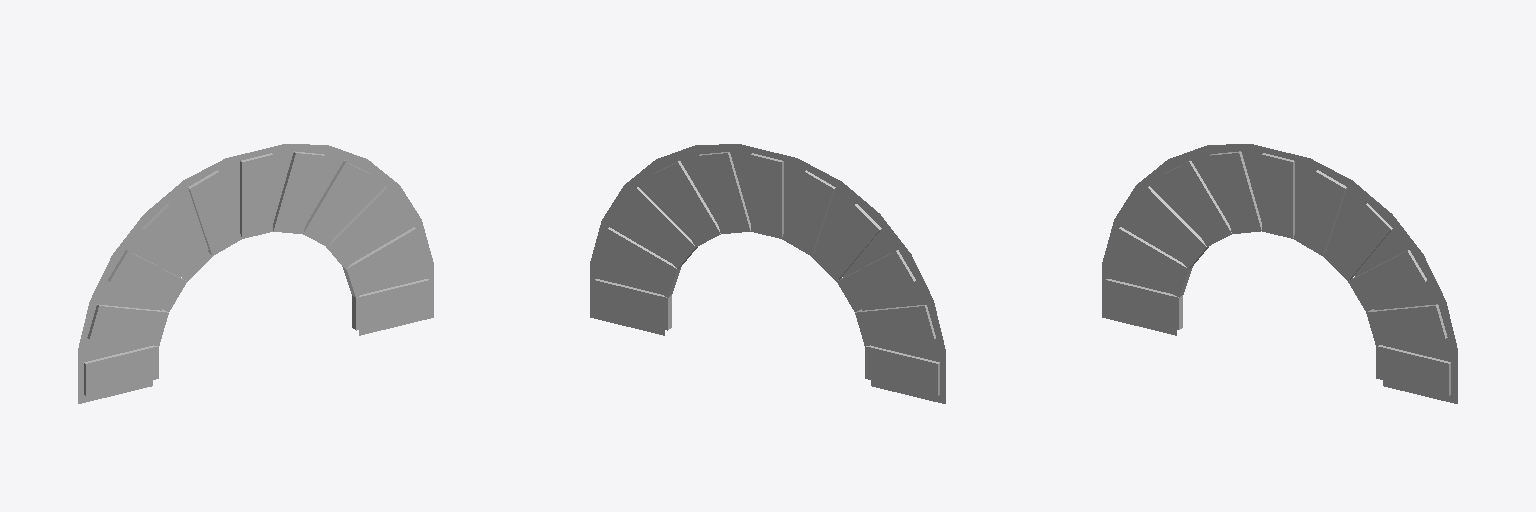
File: lime_mortar_orange_clay_brick_facade_round_arch_1_bottom.obj
The picture shows the model from 3 angles: view 1: azimuth 30°, elevation 25°; view 2: azimuth 150°, elevation 25°; view 3: azimuth 330°, elevation 25°; orthographic projection.
Visible parts, largest first — view 1: brick.032, brick.034, brick.036, brick.040, brick.038, brick.042, brick.033, brick.035, brick.041, brick.039, brick.037, cube.042 (+8 smaller); view 2: brick.032, brick.034, brick.040, brick.038, brick.042, brick.036, brick.033, brick.041, brick.035, brick.039, brick.037, cube.037 (+12 smaller); view 3: brick.035, brick.033, brick.037, brick.041, brick.039, brick.042, brick.040, brick.032, brick.034, brick.038, brick.036, cube.042 (+8 smaller).
Part boxes in pixels (bbox=[...]): brick.032: bbox=[352, 279, 429, 330]; brick.034: bbox=[342, 227, 425, 297]; brick.036: bbox=[326, 186, 405, 268]; brick.040: bbox=[273, 151, 324, 233]; brick.038: bbox=[303, 160, 370, 246]; brick.042: bbox=[240, 153, 272, 238]; brick.033: bbox=[84, 345, 158, 395]; brick.035: bbox=[87, 304, 168, 345]; brick.041: bbox=[188, 170, 241, 255]; brick.039: bbox=[142, 204, 212, 281]; brick.037: bbox=[108, 250, 186, 311]; cube.042: bbox=[226, 144, 285, 230]; brick.032: bbox=[594, 279, 671, 330]; brick.034: bbox=[598, 227, 681, 297]; brick.040: bbox=[699, 152, 750, 233]; brick.038: bbox=[653, 160, 720, 246]; brick.042: bbox=[751, 153, 783, 238]; brick.036: bbox=[618, 187, 697, 268]; brick.033: bbox=[865, 345, 939, 395]; brick.041: bbox=[782, 170, 835, 255]; brick.035: bbox=[855, 305, 935, 345]; brick.039: bbox=[811, 204, 881, 281]; brick.037: bbox=[837, 250, 915, 311]; cube.037: bbox=[842, 214, 911, 277]; brick.035: bbox=[1109, 227, 1192, 297]; brick.033: bbox=[1106, 279, 1182, 329]; brick.037: bbox=[1129, 186, 1208, 268]; brick.041: bbox=[1210, 151, 1261, 233]; brick.039: bbox=[1164, 160, 1231, 246]; brick.042: bbox=[1262, 153, 1294, 238]; brick.040: bbox=[1293, 170, 1346, 255]; brick.032: bbox=[1376, 345, 1450, 395]; brick.034: bbox=[1366, 304, 1447, 345]; brick.038: bbox=[1323, 203, 1392, 280]; brick.036: bbox=[1348, 250, 1426, 311]; cube.042: bbox=[1250, 144, 1309, 231].
Size of the model in its own units: 1.78 by 1.01 by 0.0374.